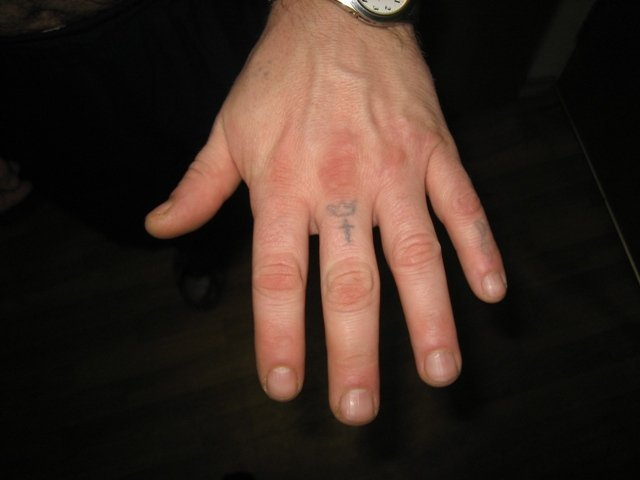tatu9_krest: (326, 215, 357, 246)
